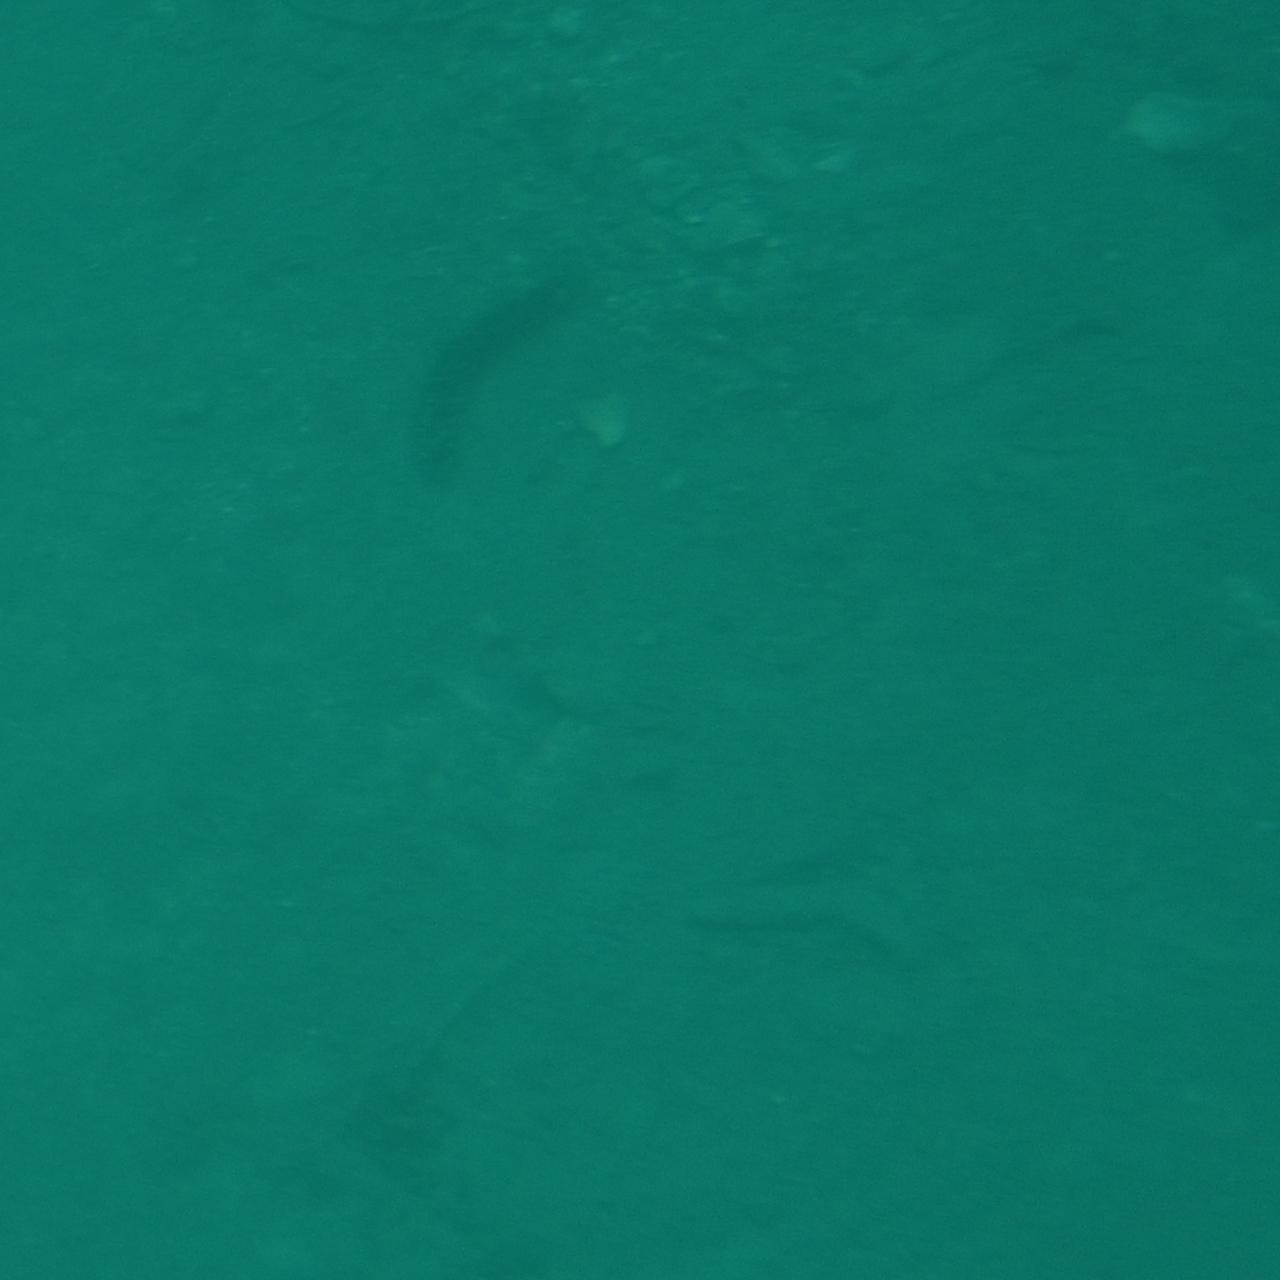Holothuria tubulosa: (370, 223, 610, 511), (687, 851, 965, 976)
